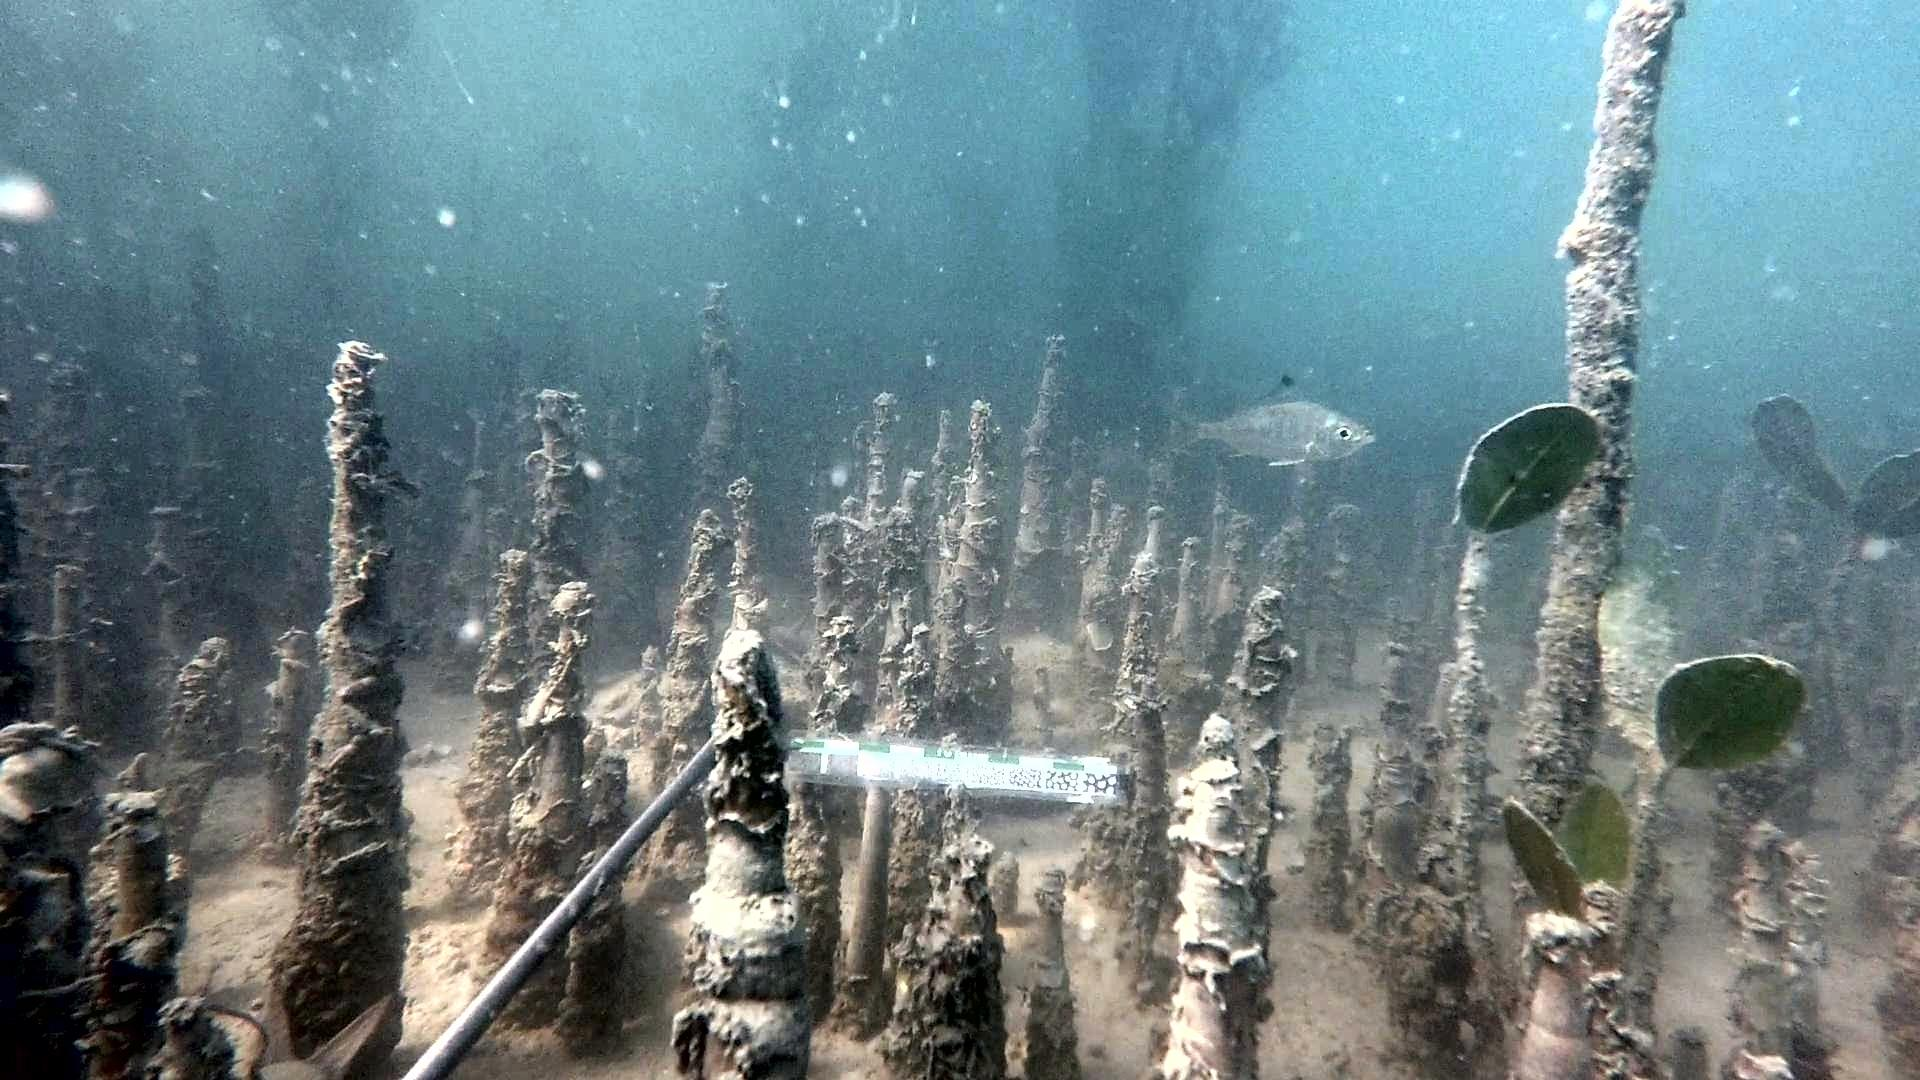gerres: (1160, 373, 1378, 468)
